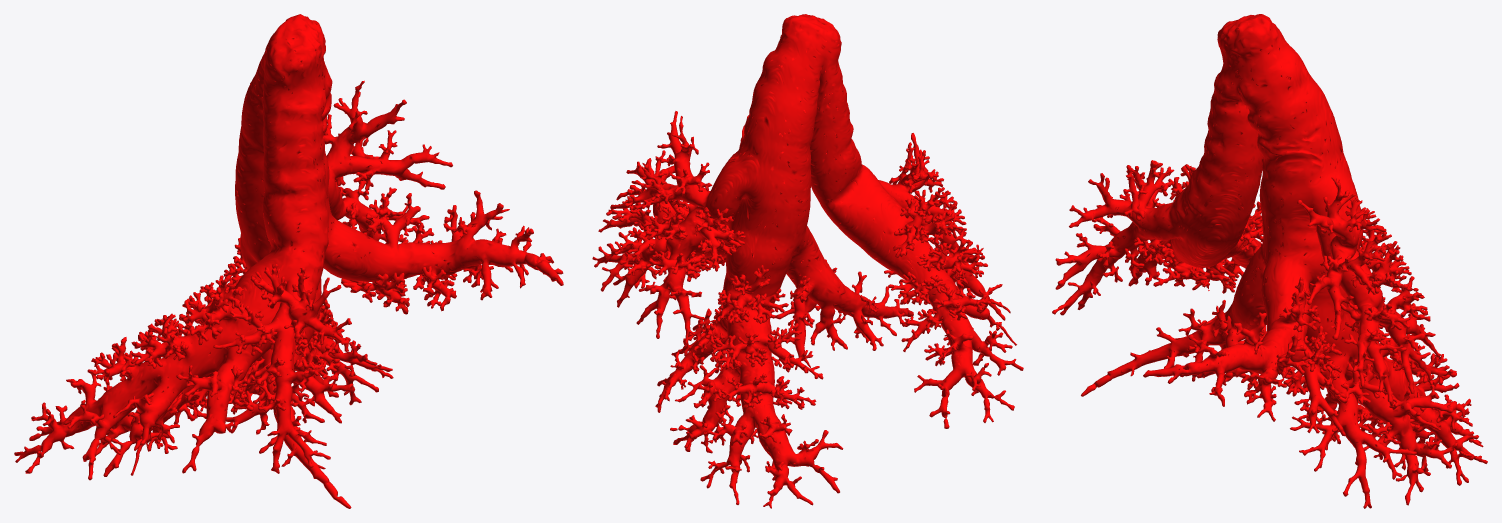
The model's file is MouseAirWaysImage.glb.
3 renders of one model, left to right at view 1: azimuth 30°, elevation 25°; view 2: azimuth 150°, elevation 25°; view 3: azimuth 270°, elevation 25°, orthographic. The views are drawn at different scales.
Visible parts, largest first — view 1: MouseAirwayCast; view 2: MouseAirwayCast; view 3: MouseAirwayCast.
Part boxes in pixels (x1,y1,x2,y2): MouseAirwayCast: [14, 14, 563, 508]; MouseAirwayCast: [592, 14, 1023, 508]; MouseAirwayCast: [1052, 14, 1487, 508].
Size of the model in its own units: 1066 by 988 by 835.
